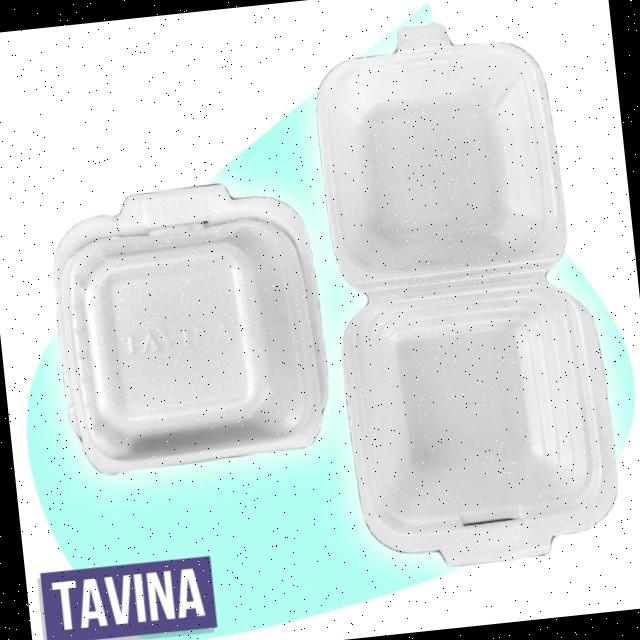styrofoam: (304, 5, 626, 576), (42, 171, 336, 478)
